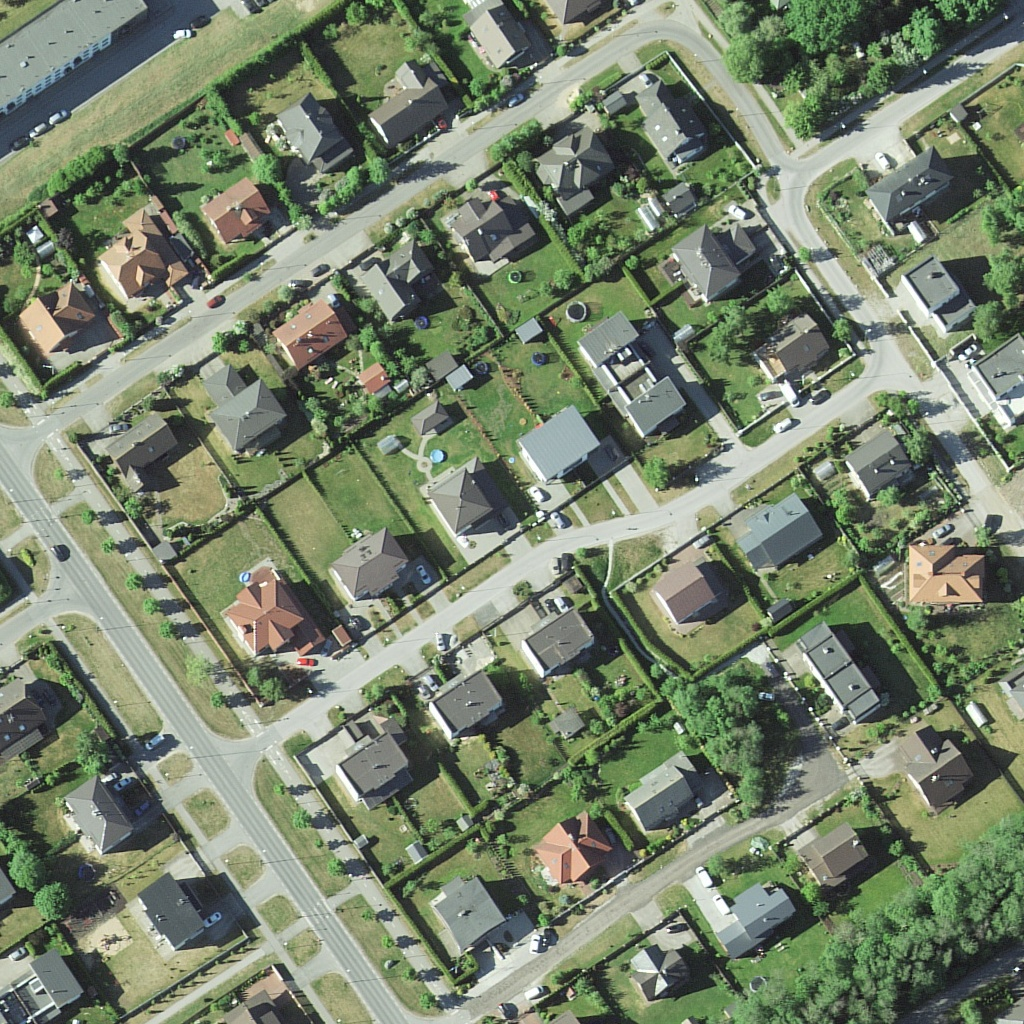building: (1, 2, 161, 109), (577, 310, 685, 435), (800, 616, 881, 723), (860, 143, 954, 228), (742, 490, 832, 575), (421, 463, 511, 545), (94, 210, 185, 290), (127, 871, 212, 953), (224, 577, 311, 655), (450, 193, 544, 264), (516, 403, 596, 485), (714, 881, 795, 961), (375, 62, 447, 151), (329, 528, 408, 606), (211, 378, 284, 462), (57, 779, 136, 856), (547, 125, 616, 211), (634, 745, 702, 832), (1, 944, 77, 1021), (18, 283, 92, 362), (537, 809, 608, 891), (898, 544, 981, 612), (512, 611, 595, 677), (637, 78, 705, 157), (337, 738, 415, 806), (202, 177, 276, 248), (902, 731, 969, 809), (281, 92, 349, 168), (432, 881, 504, 948), (674, 223, 740, 295), (369, 243, 429, 319), (797, 828, 868, 889), (443, 668, 505, 736), (1, 672, 49, 756), (650, 562, 714, 624), (110, 417, 171, 482), (767, 310, 821, 383), (914, 257, 970, 326), (977, 332, 1024, 410), (850, 430, 912, 489), (281, 305, 342, 362), (634, 948, 683, 1004), (470, 11, 524, 58)
